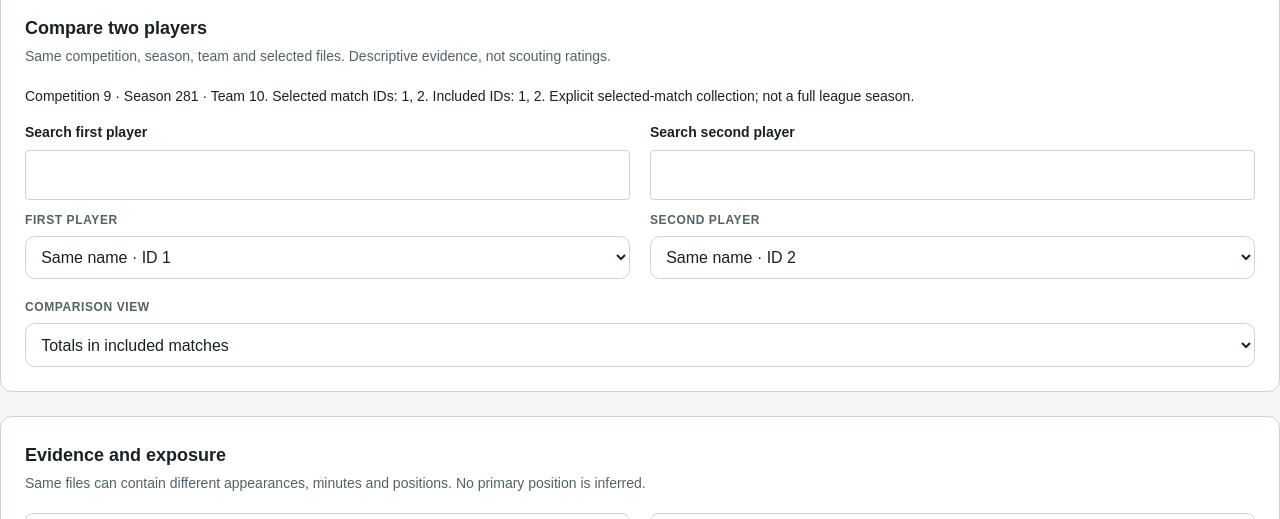
Test case: uses Python-provided totals and per90 rather than deriving rates in TypeScript
Select "Per 90 elapsed pitch minutes" in the dropdown labelled "Comparison view" at x=640, y=345, box [25,323,1255,367]
(page scrolled)
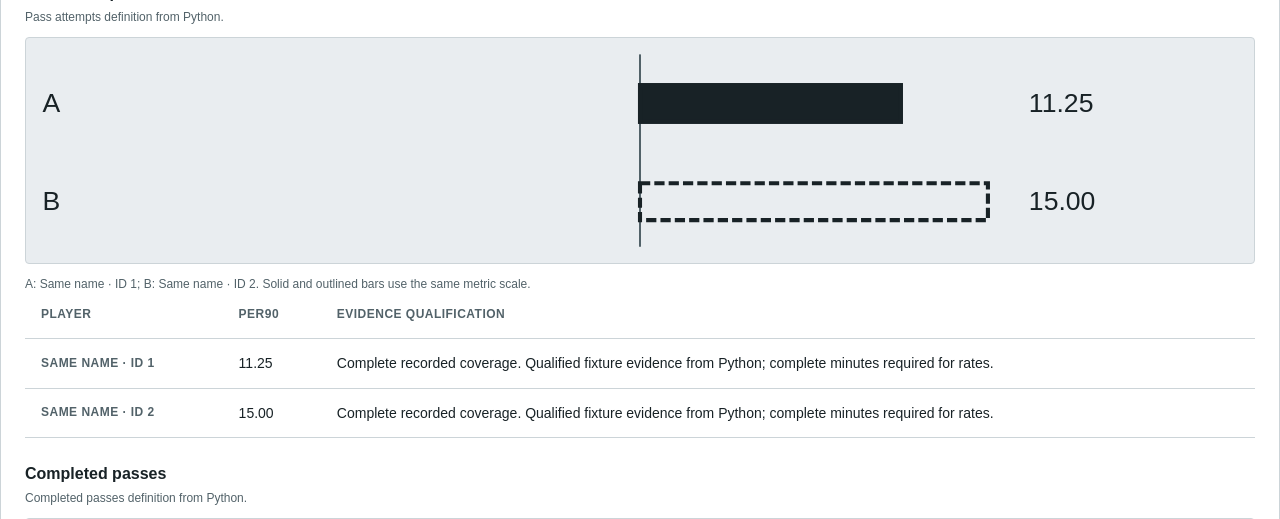
Check: the element named "Pass attempts numeric values" shows "11.25", box [239,355,273,371]
Check: the element named "Pass attempts numeric values" shows "15.00", box [239,405,274,421]
